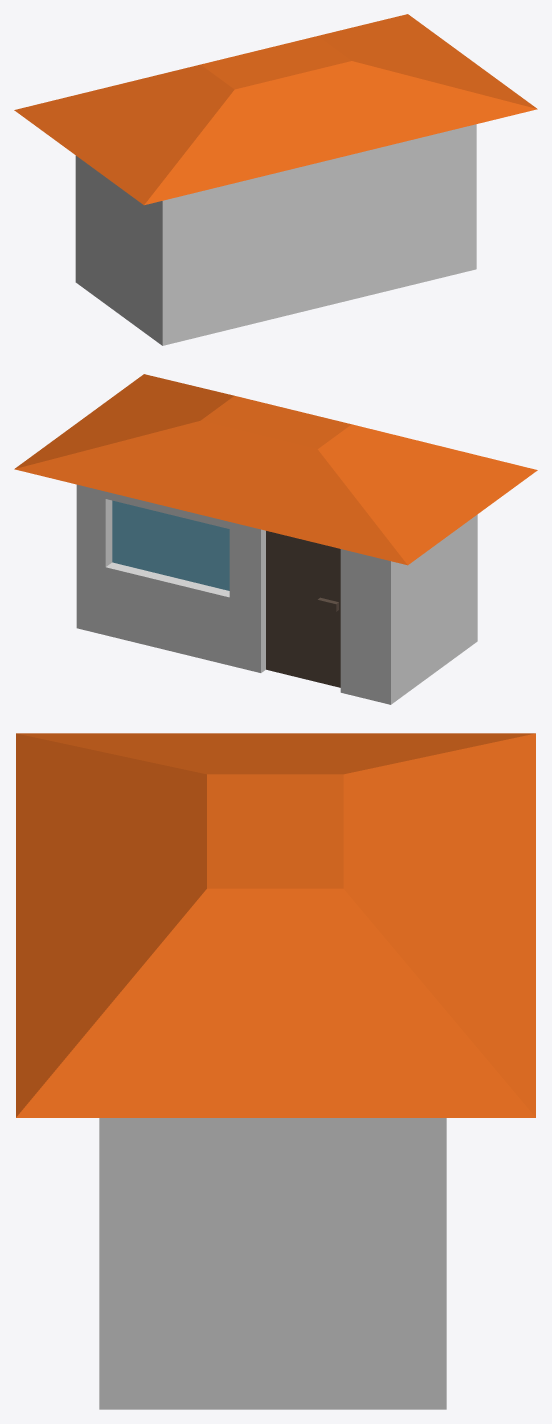
File: house.glb
3 views of the same model, one above another, from view 1: azimuth 30°, elevation 25°; view 2: azimuth 150°, elevation 25°; view 3: azimuth 270°, elevation 25° (orthographic). The views are drawn at different scales.
Parts seen in each view (by area): view 1: house-col, roof-col; view 2: roof-col, house-col, door-col, window-col; view 3: roof-col, house-col.
Boxes of the visible parts, bbox=[...] form: house-col: bbox=[75, 124, 476, 345]; roof-col: bbox=[14, 14, 537, 205]; roof-col: bbox=[14, 374, 537, 565]; house-col: bbox=[76, 484, 477, 704]; door-col: bbox=[266, 531, 340, 687]; window-col: bbox=[112, 500, 229, 590]; roof-col: bbox=[16, 733, 535, 1117]; house-col: bbox=[99, 1118, 446, 1409].
Size of the model in its own units: 12.38 by 6.38 by 7.08.
